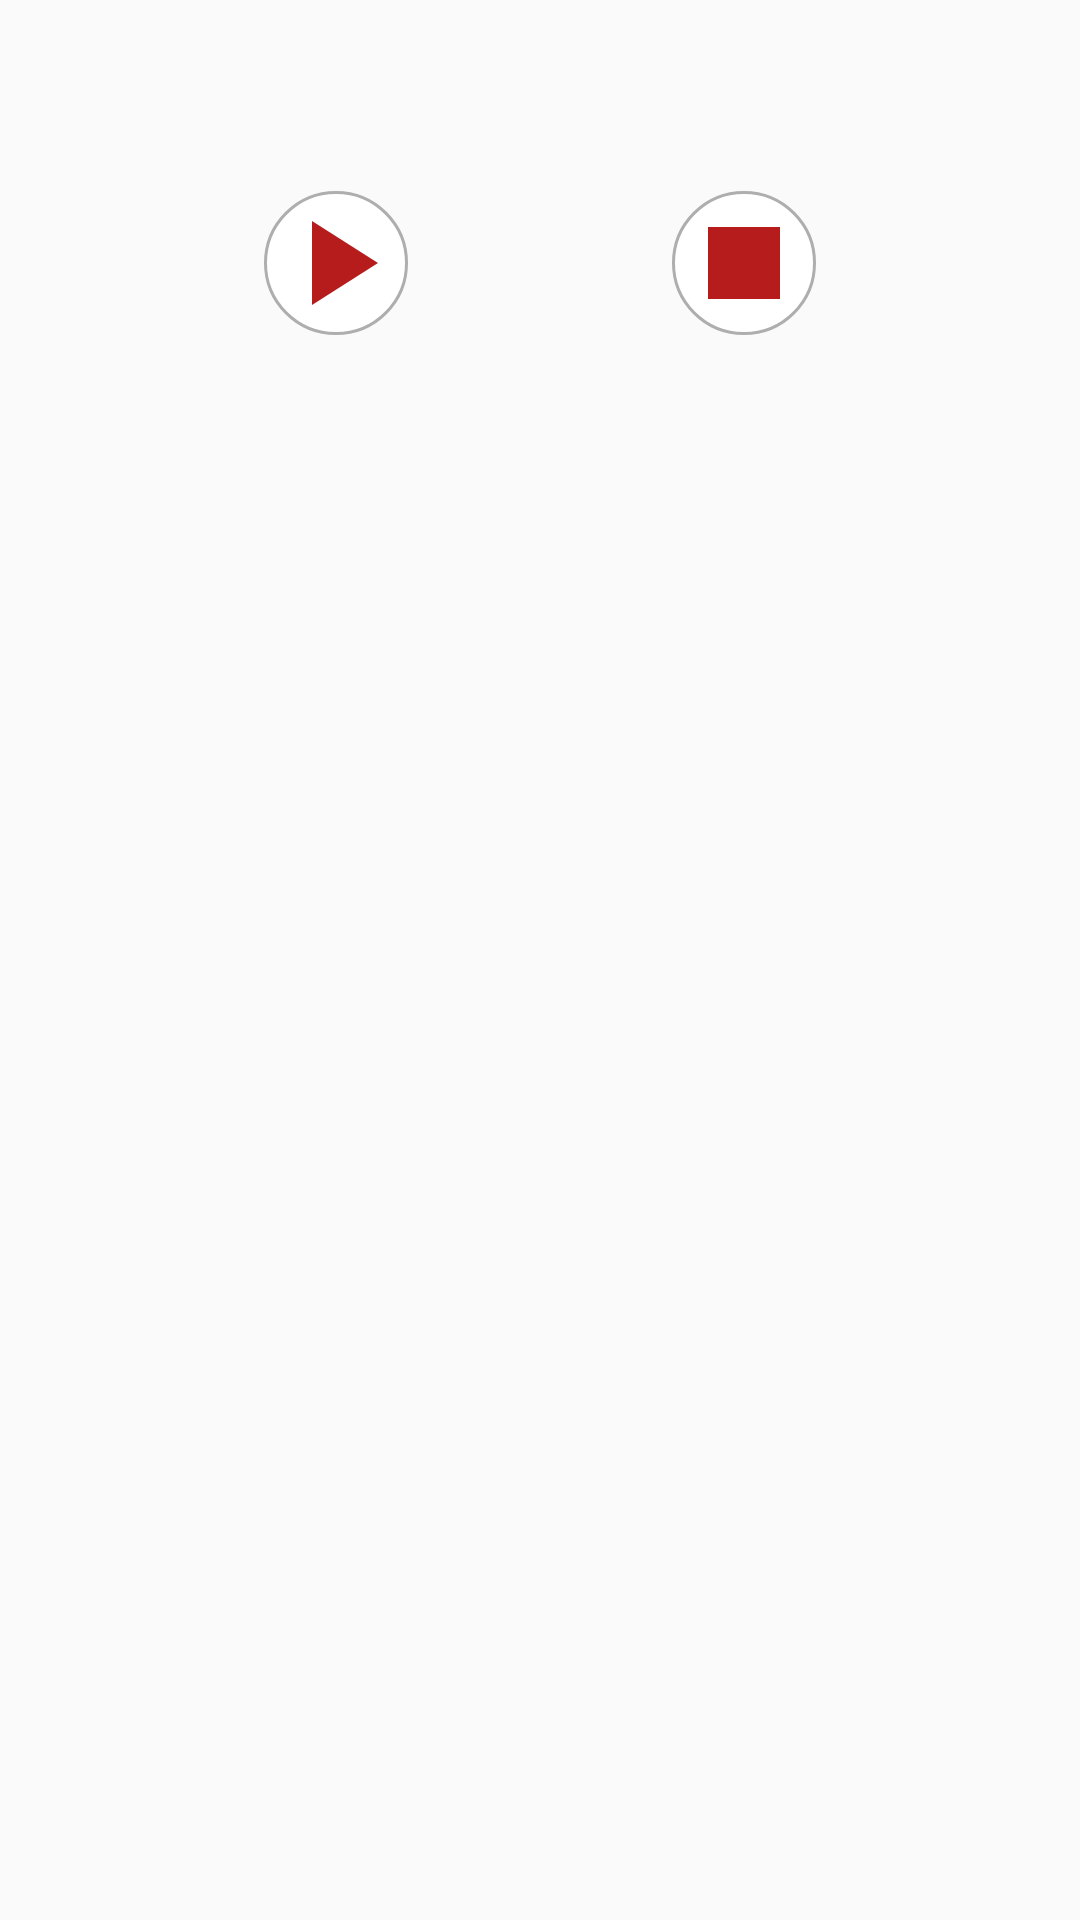

Screen size 1080px x 1920px. Icon name, then its center in pixels as [x,y]:
play arrow: [336,263]
stop: [744,263]
